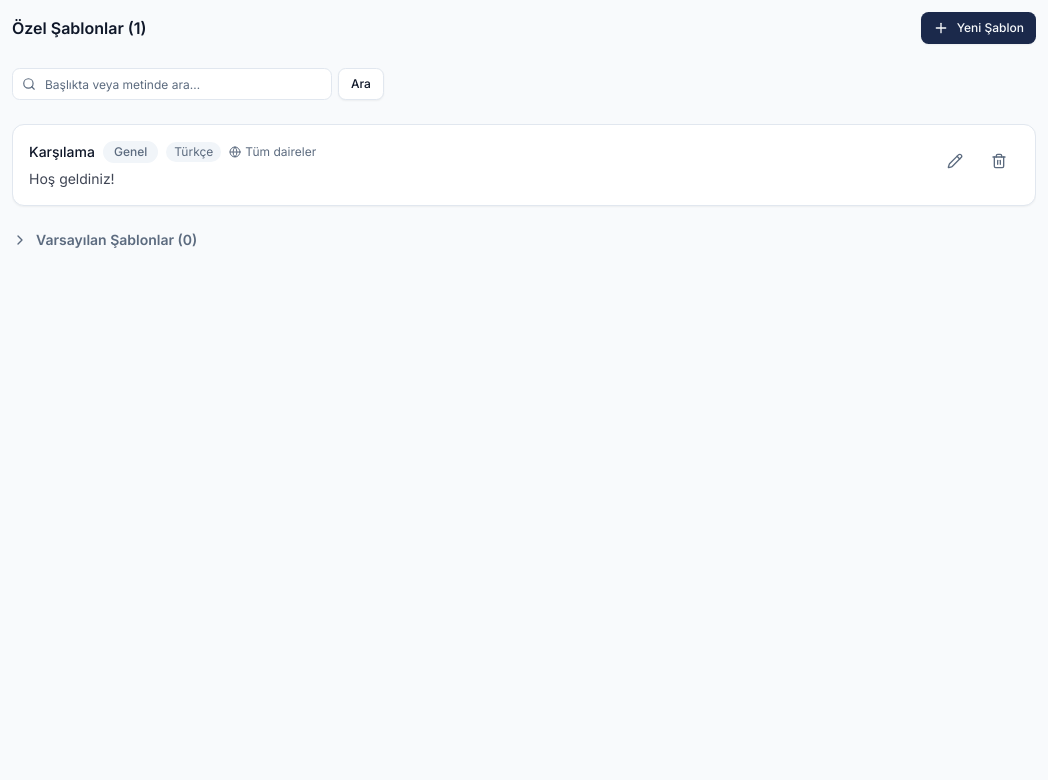
Test case: şablon düzenleme — geç dönen tam metin okuması sonradan açılan formu ezmez (11-19 gece, Haiku bulgusu) › KONTROL: araya bir şey girmezse geç gelen yanıt formu tam metinle açar
Click the button named "Düzenle".
click(955, 161)  # box [935,141,975,181]
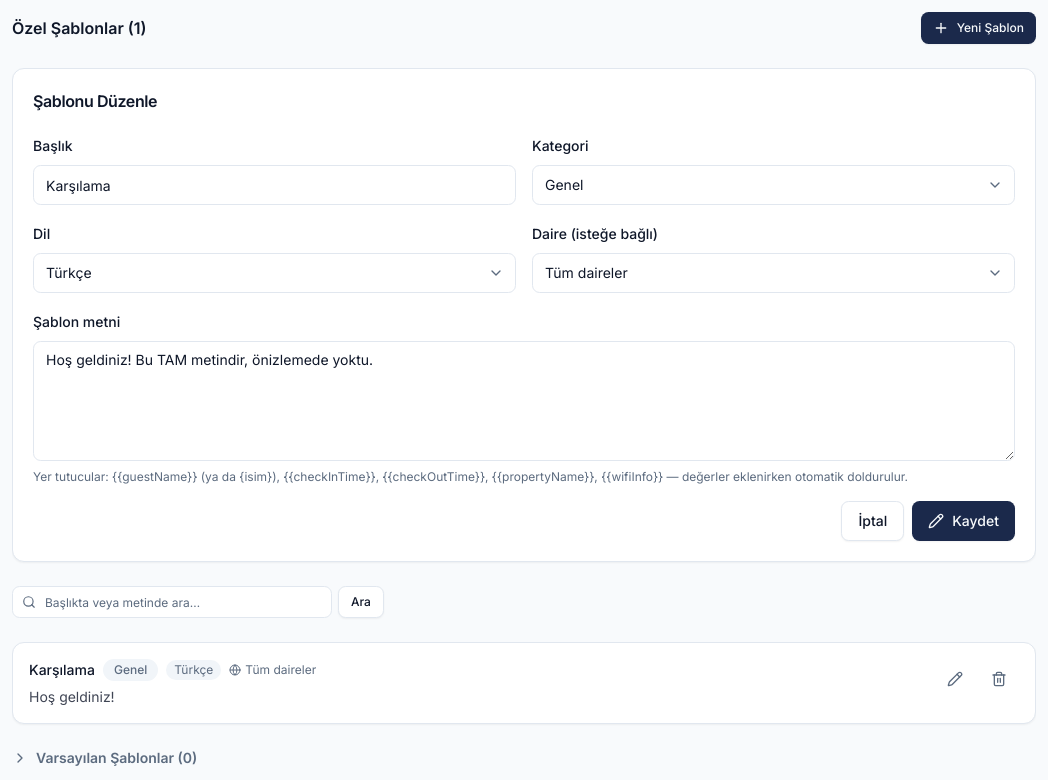
Result: the text box labelled "Şablon metni" holds "Hoş geldiniz! Bu TAM metindir, önizlemede yoktu." at [33,341,1015,461]
Result: the text "Şablonu Düzenle" is shown at [33,91,157,111]
